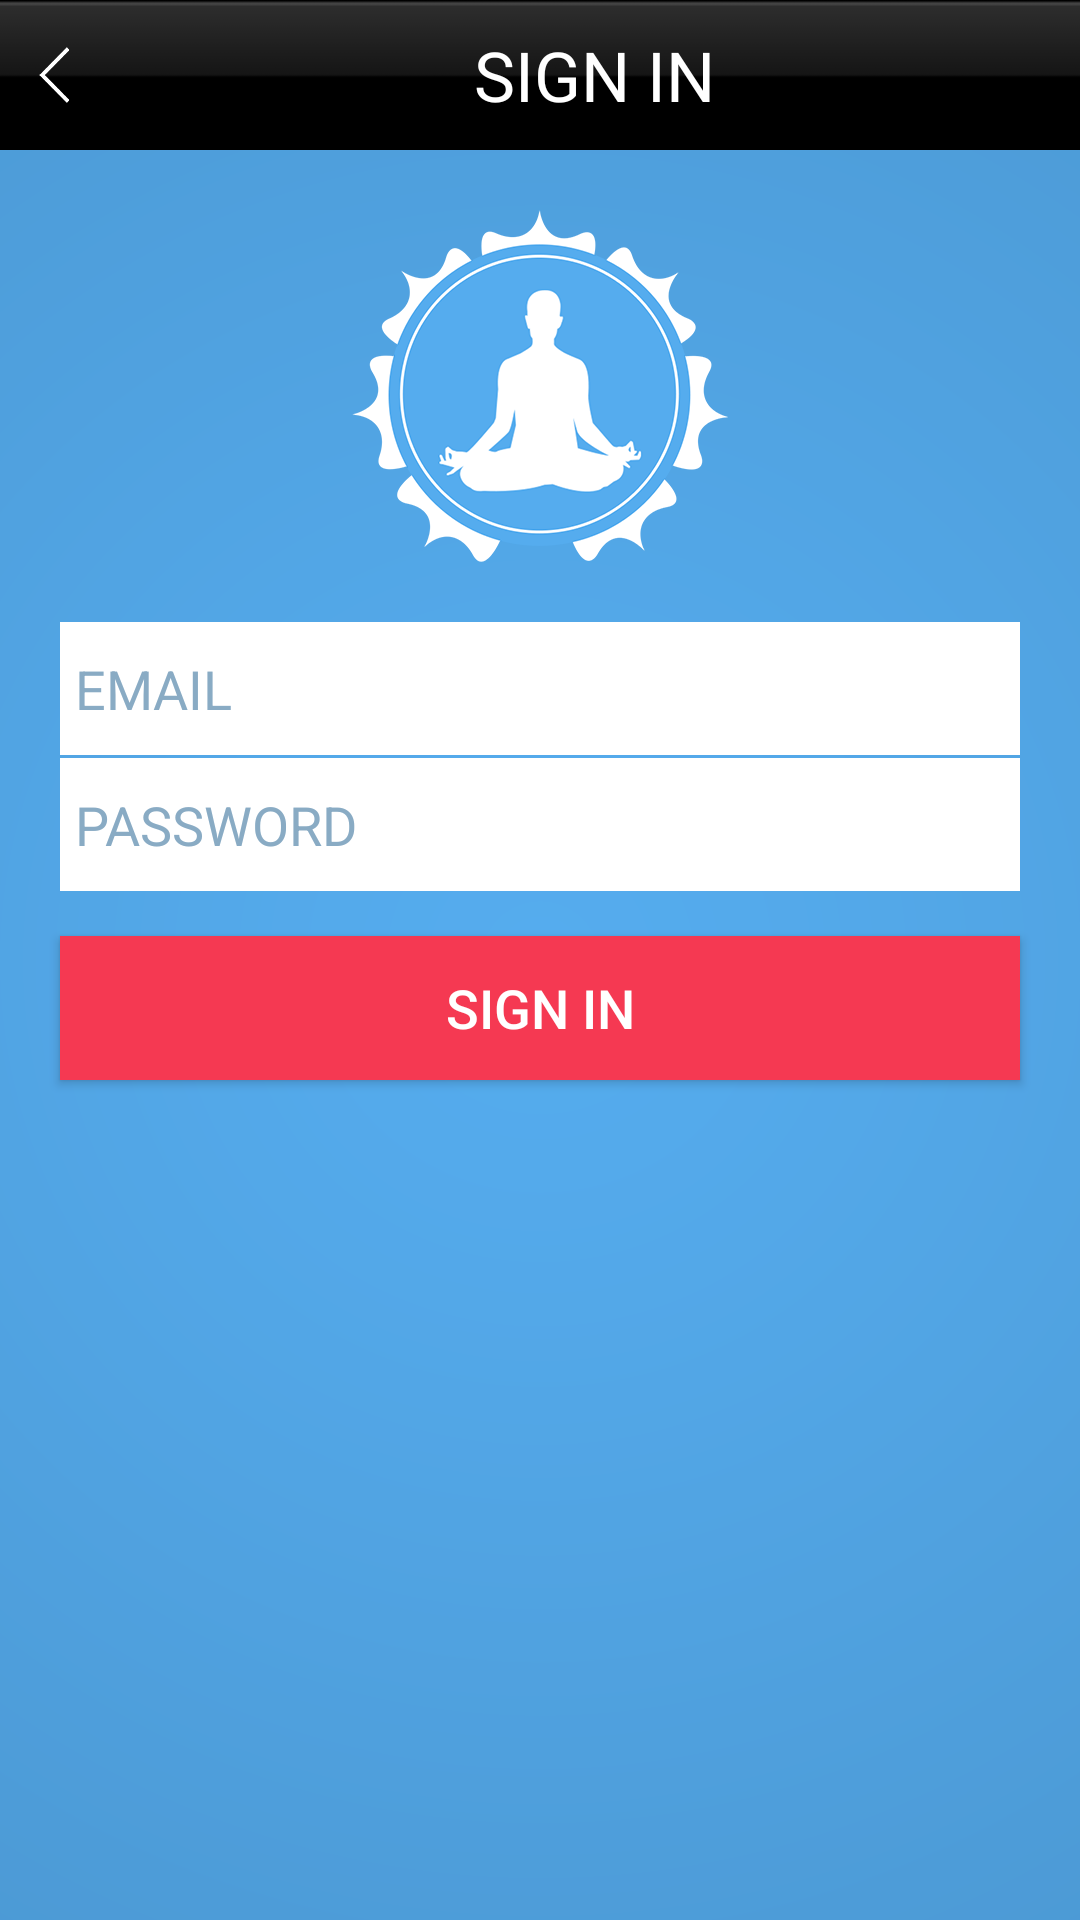

Where to tap for icons on this 1080x1920 app screen, as point (x, y):
back: point (54, 75)
